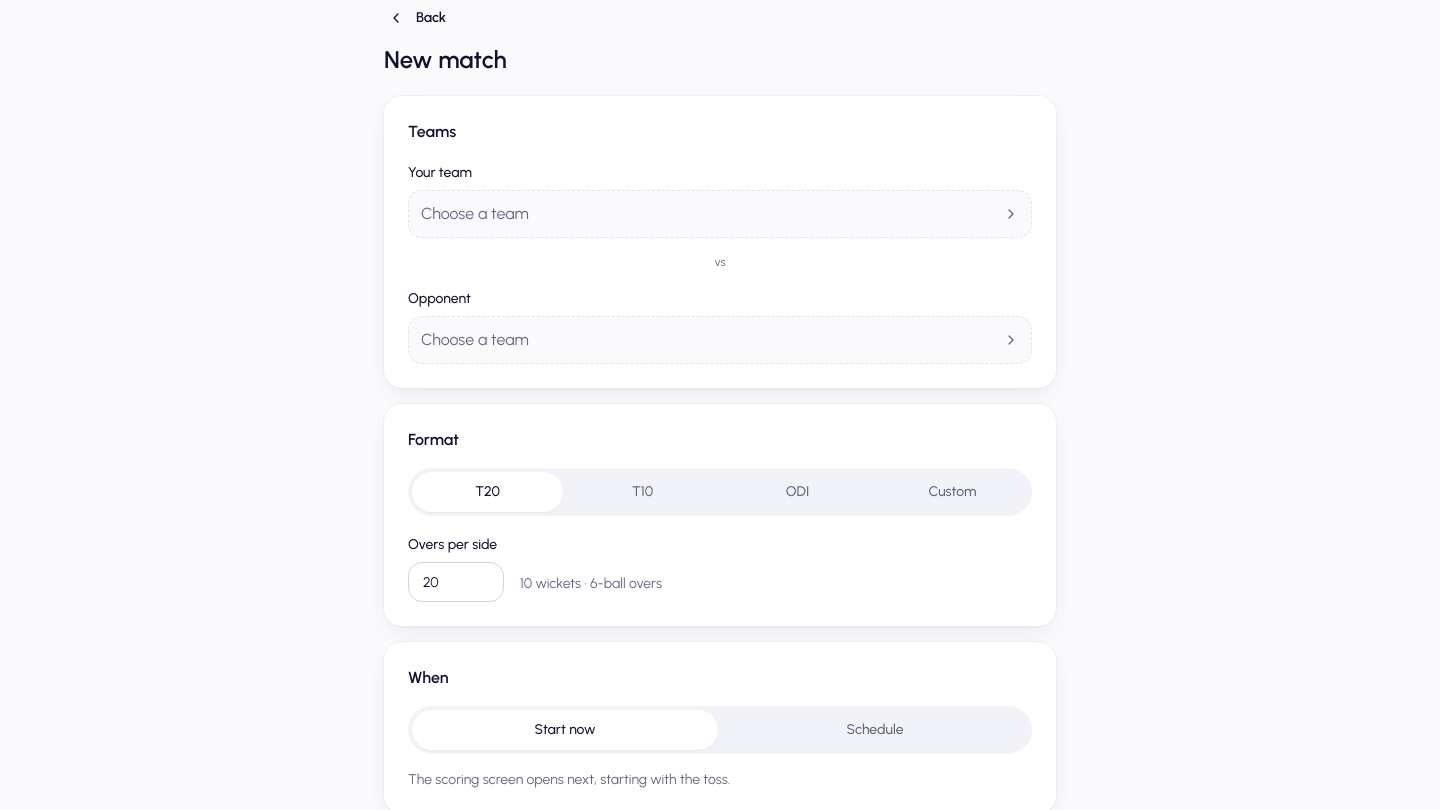
Test: New match form › shows the server's message when a new team cannot be created
Click the button named "opponent" at (475, 340), box [408,316,1032,364]
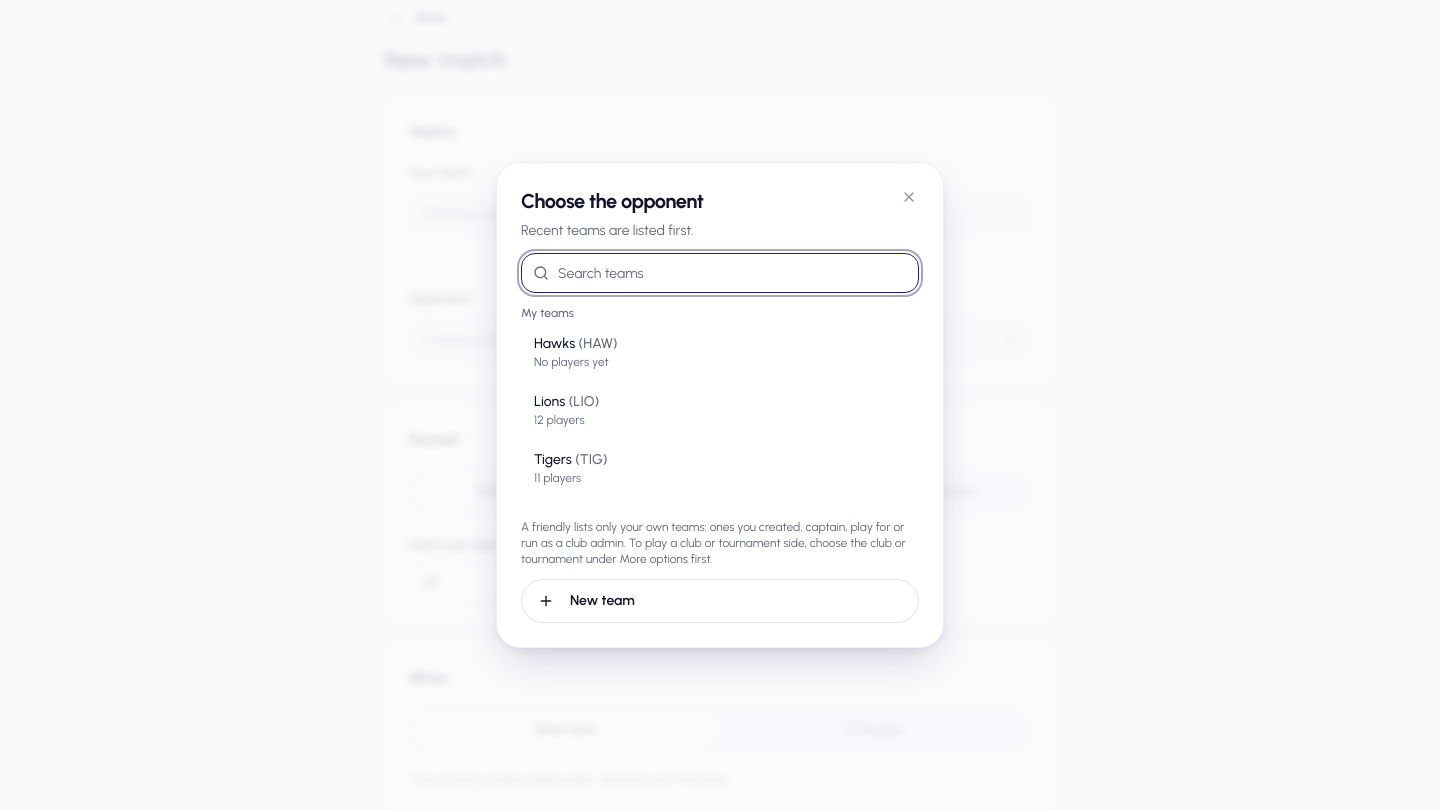
Click the button "New team" at (602, 600), box [521,579,919,623]
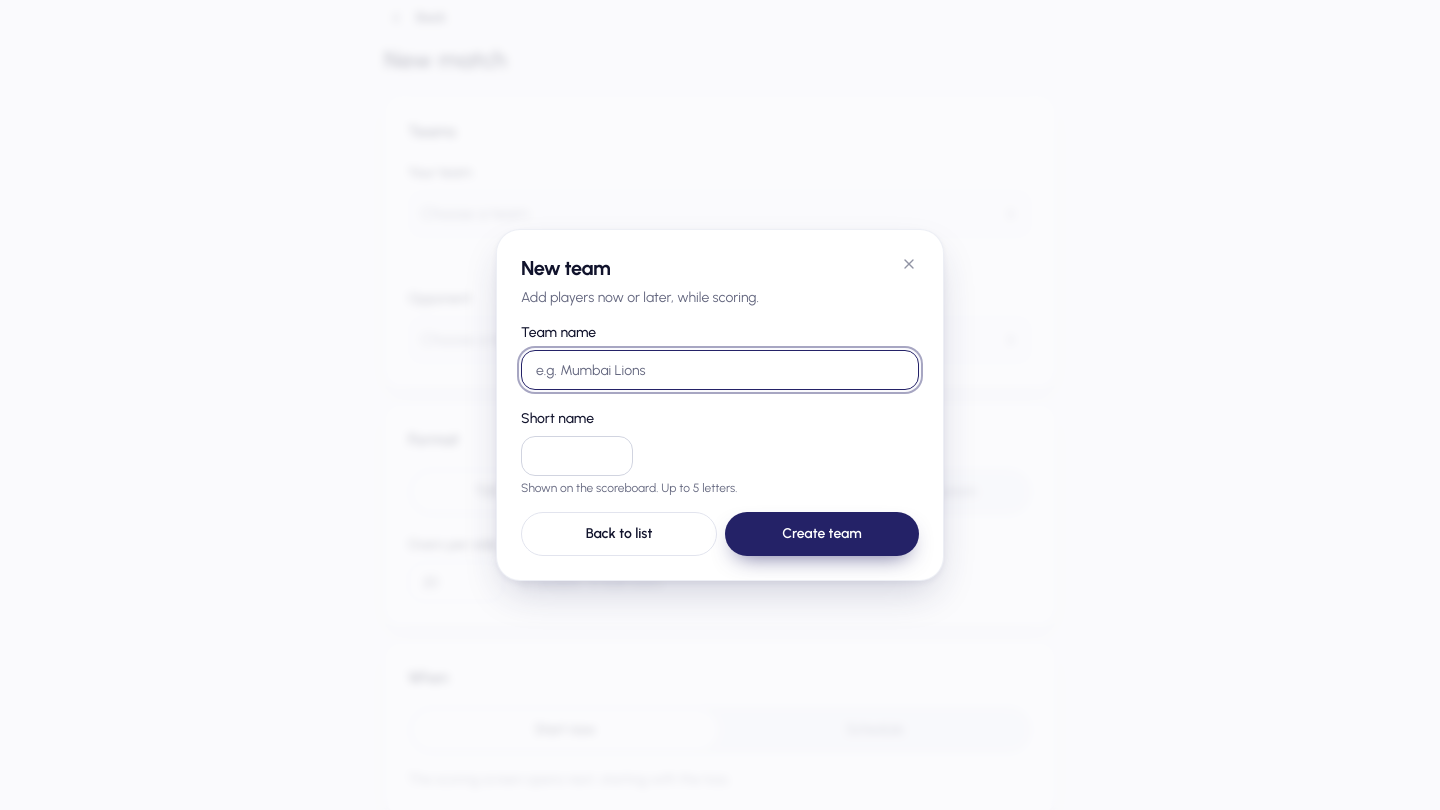
Click the button "Create team" at (822, 534), box [725,512,919,556]
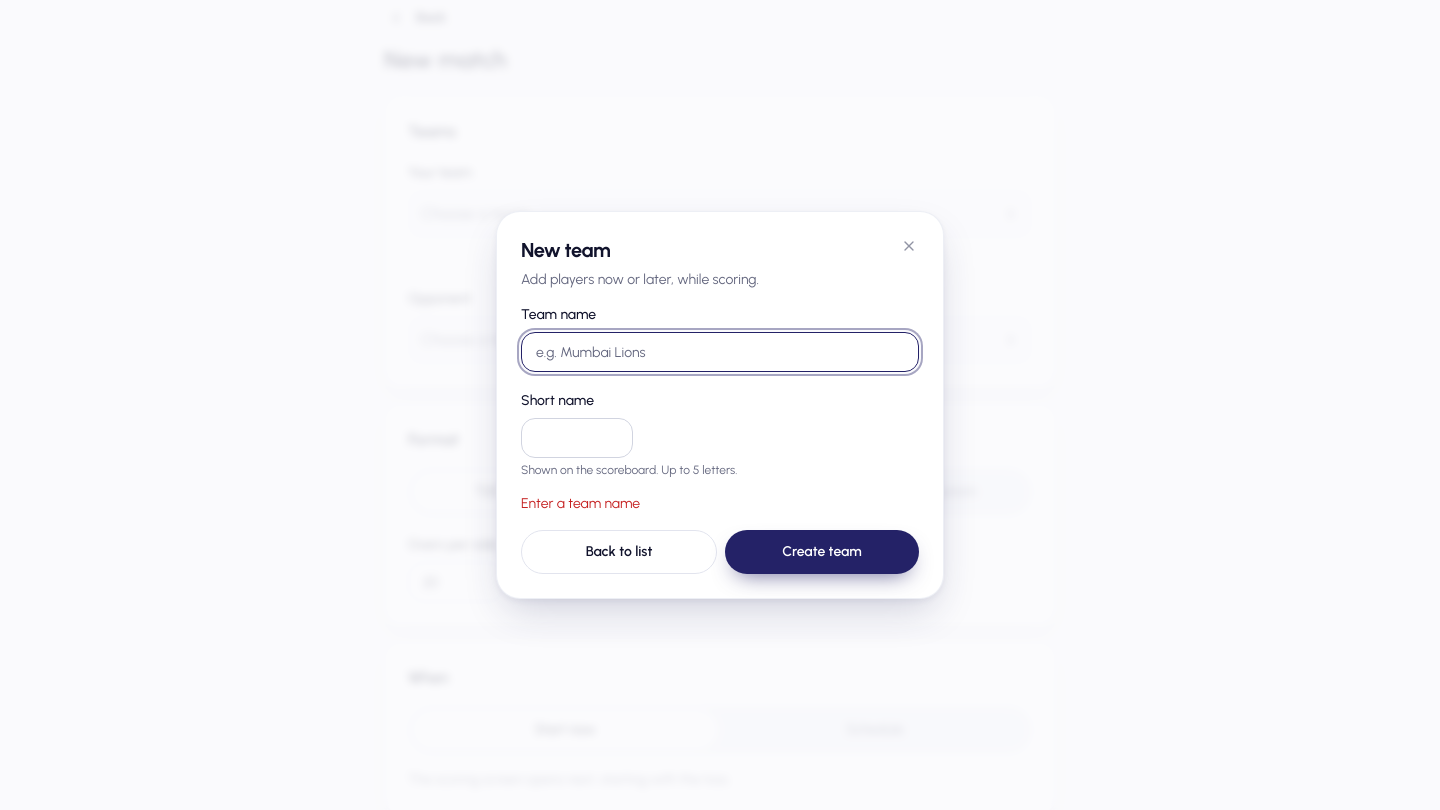
Expected: the message reads "Enter a team name", [521,495,640,512]
Type "Lions" into the field labelled "Team name" at (720, 352), box [521,332,919,372]
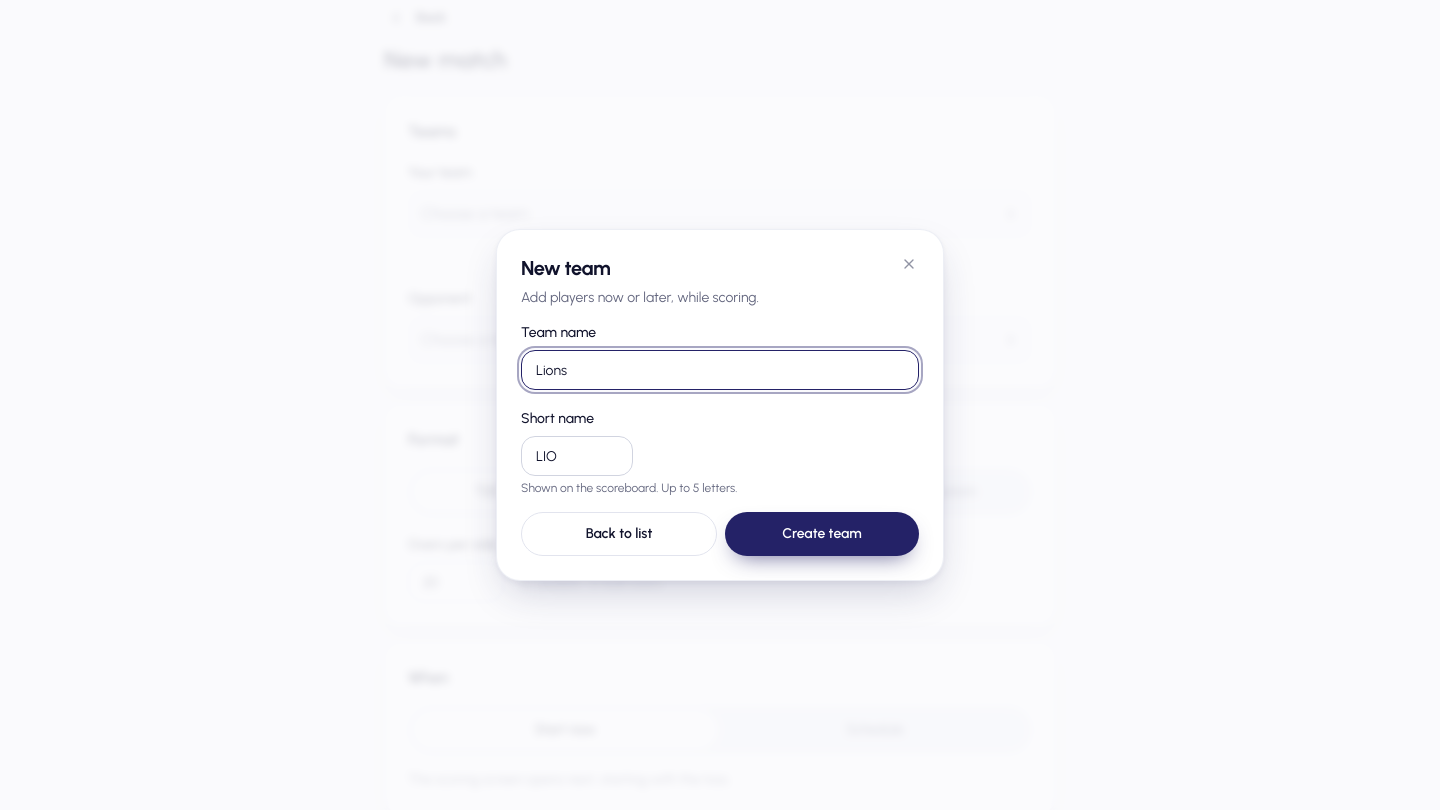
Click the button "Create team" at (822, 534), box [725,512,919,556]
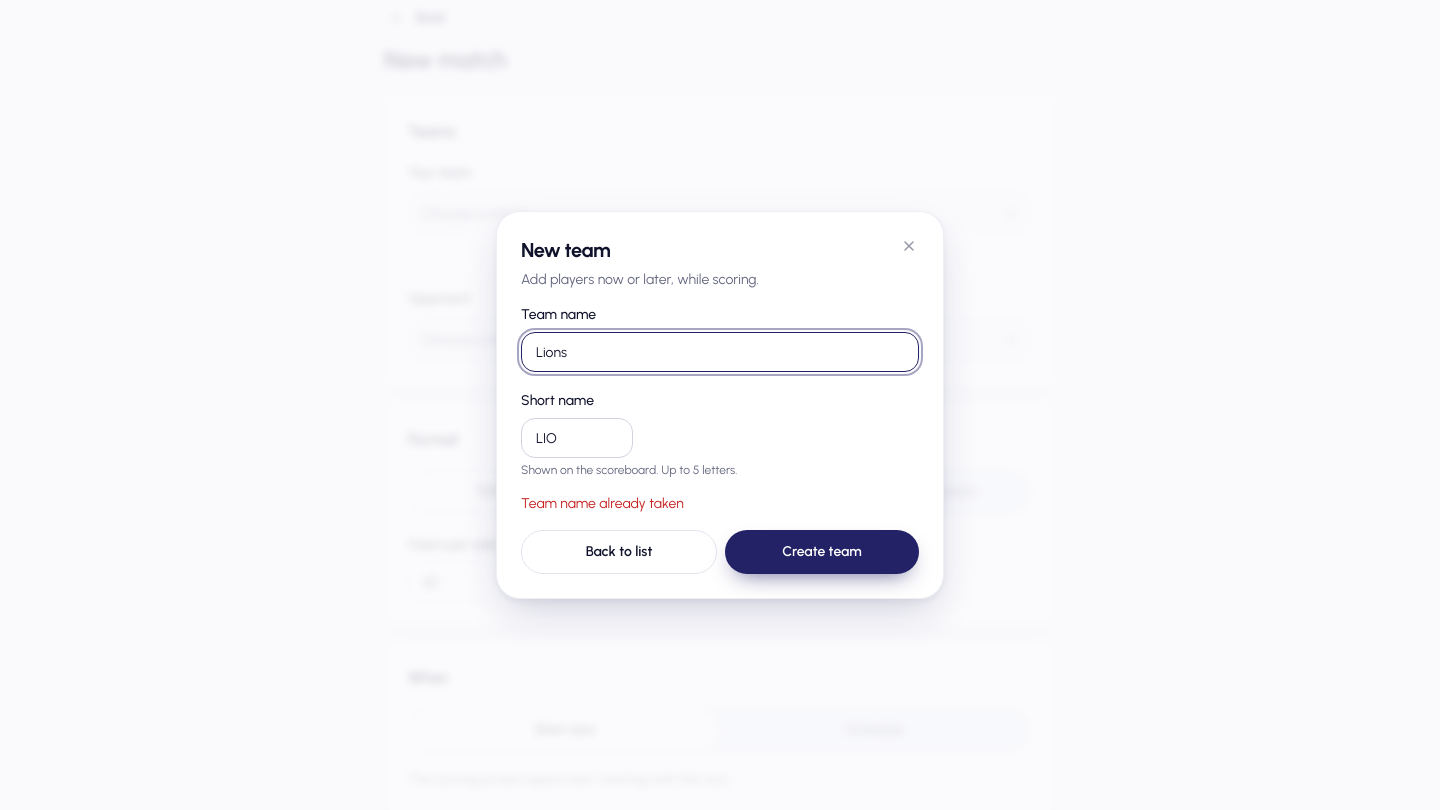
Expected: the message reads "Team name already taken", [521,495,684,512]
